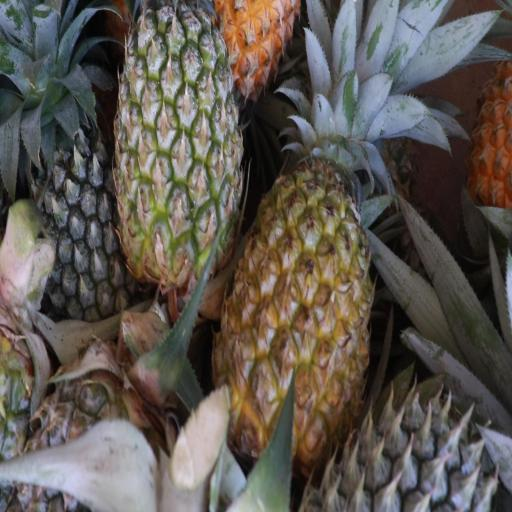------------------------------: (114, 3, 243, 289)
Pineapple - v8 v1: (221, 28, 376, 476)
